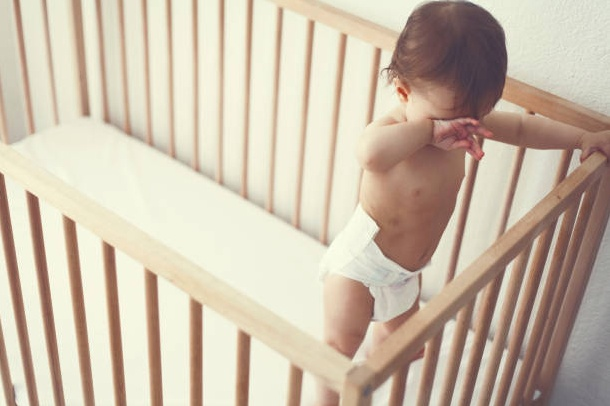baby: (321, 1, 609, 357)
crib: (0, 0, 609, 404)
